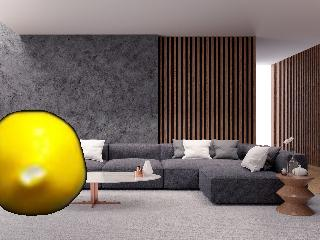lemon: (0, 111, 84, 214)
